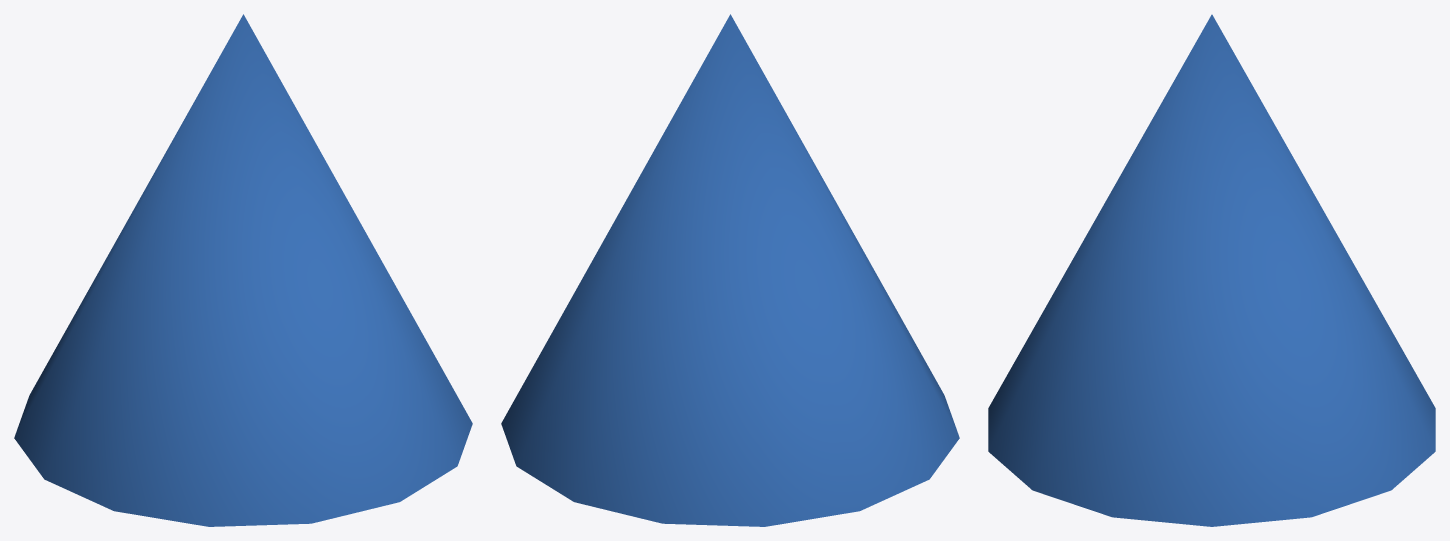
The model's file is SHP0110003.fbx.
3 views of the same model, side by side, from view 1: azimuth 30°, elevation 25°; view 2: azimuth 150°, elevation 25°; view 3: azimuth 270°, elevation 25° (orthographic).
Visible parts, largest first — view 1: smSHP0110003; view 2: smSHP0110003; view 3: smSHP0110003.
Part boxes in pixels (x1,y1,x2,y2): smSHP0110003: (14,14,472,526); smSHP0110003: (501,14,959,526); smSHP0110003: (988,14,1435,526).
Size of the model in its own units: 157 by 157 by 153.
1 material, 1 textured.
